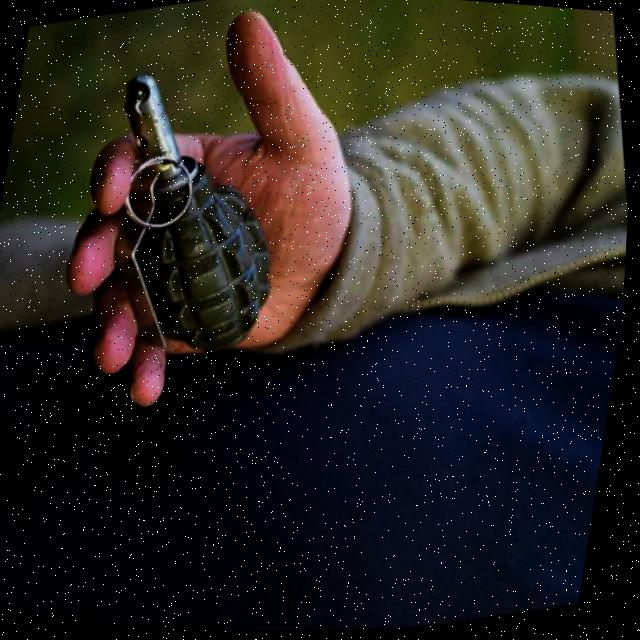grenade: (76, 41, 322, 396)
